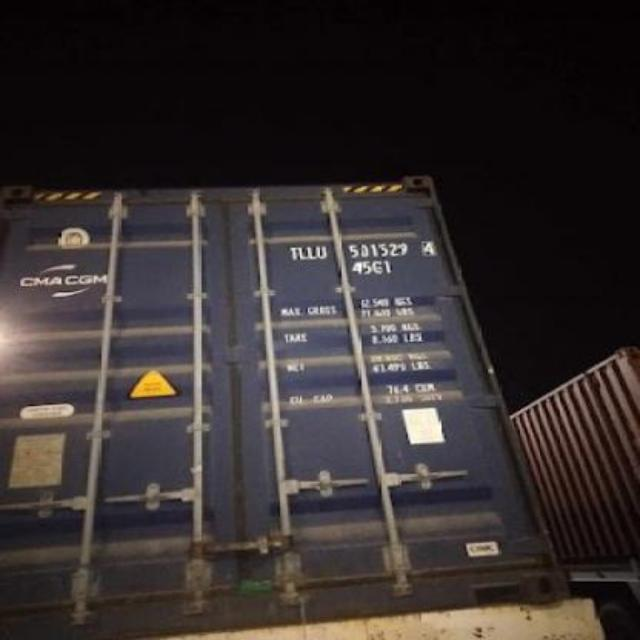0: (358, 238, 370, 258)
1: (370, 239, 380, 257)
2: (388, 239, 398, 259)
4: (418, 237, 438, 260)
5: (346, 241, 358, 257), (378, 239, 388, 257)
9: (398, 238, 408, 258)
L: (296, 241, 308, 261), (308, 242, 318, 262)
T: (286, 242, 296, 264)
U: (316, 235, 328, 259)
